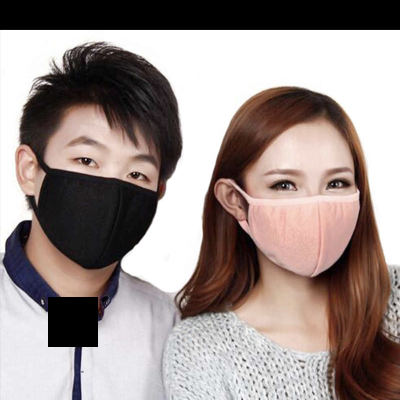with_mask: (36, 131, 157, 272), (246, 163, 362, 279)
